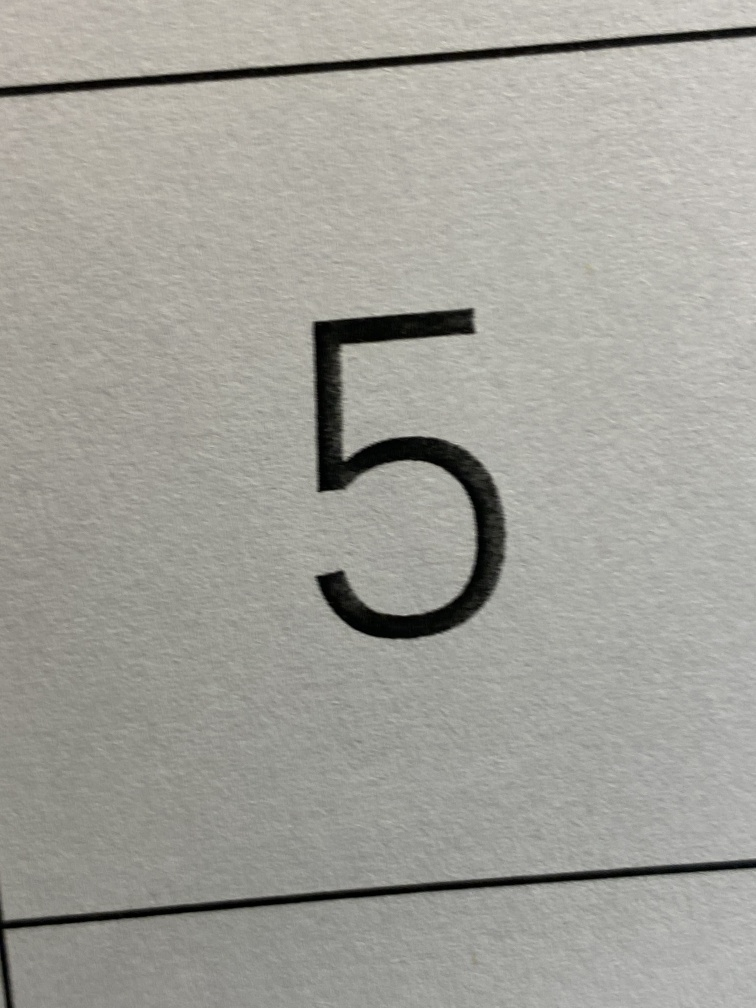five: (251, 233, 577, 711)
